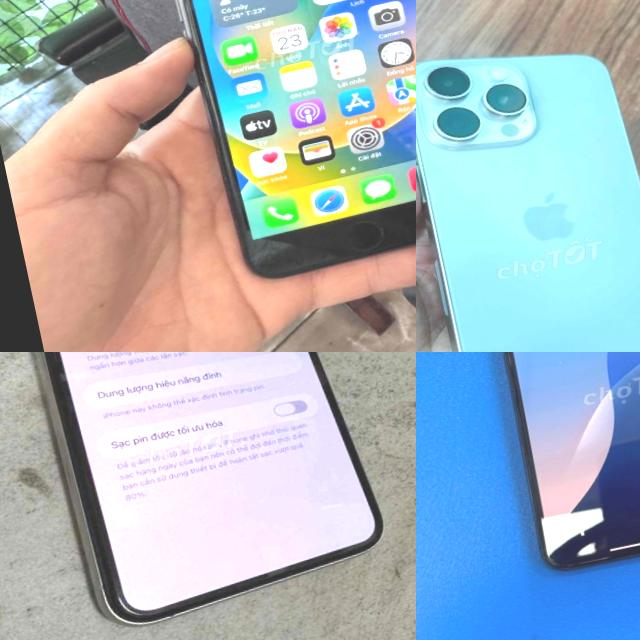gen_11: (35, 352, 381, 624), (138, 0, 416, 294)
gen_15: (416, 2, 640, 352)
gen_x_xs: (483, 352, 640, 583)
